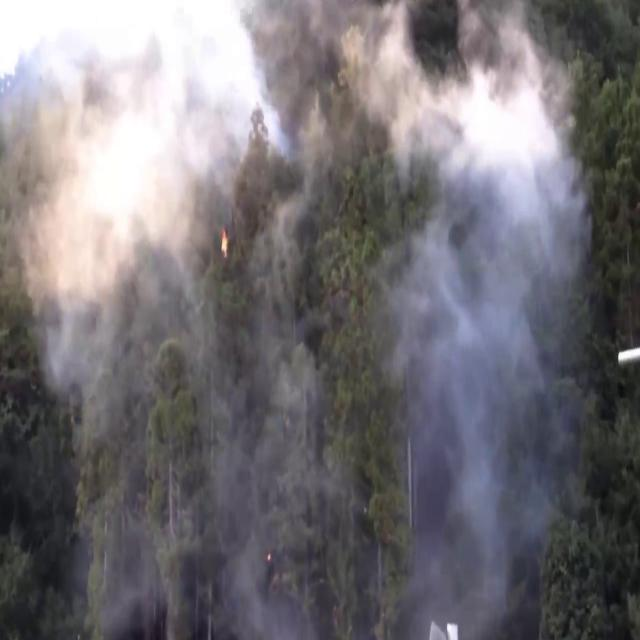Smoke: (5, 0, 608, 636)
